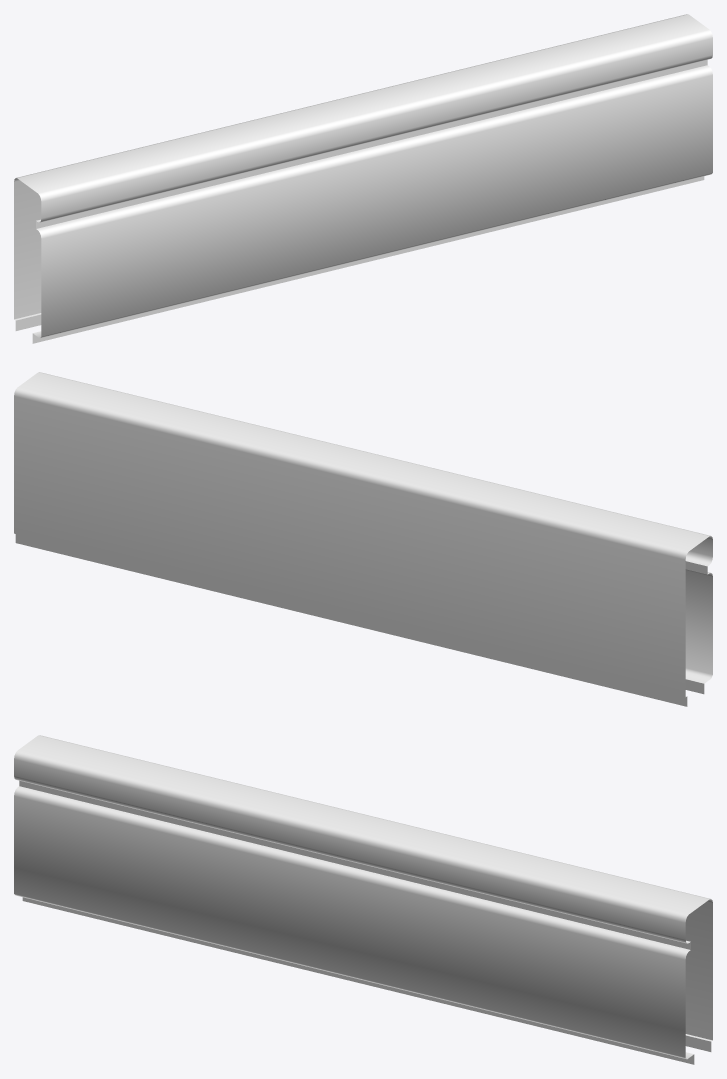
File: original-44.obj
3 renders of one model, top to bottom at view 1: azimuth 30°, elevation 25°; view 2: azimuth 150°, elevation 25°; view 3: azimuth 330°, elevation 25°, orthographic.
Visible parts, largest first — view 1: DF_12_TC1/DF_12_TC/mesh31/mesh31-geometry#mesh31-geometry; view 2: DF_12_TC1/DF_12_TC/mesh31/mesh31-geometry#mesh31-geometry; view 3: DF_12_TC1/DF_12_TC/mesh31/mesh31-geometry#mesh31-geometry.
Boxes of the visible parts, box(x1,y1,x2,y2) form: DF_12_TC1/DF_12_TC/mesh31/mesh31-geometry#mesh31-geometry: box(14, 14, 712, 343); DF_12_TC1/DF_12_TC/mesh31/mesh31-geometry#mesh31-geometry: box(14, 372, 712, 706); DF_12_TC1/DF_12_TC/mesh31/mesh31-geometry#mesh31-geometry: box(14, 735, 712, 1064).
Bounding box in the file's own units: 0.3031 × 0.0665 × 0.0214.
